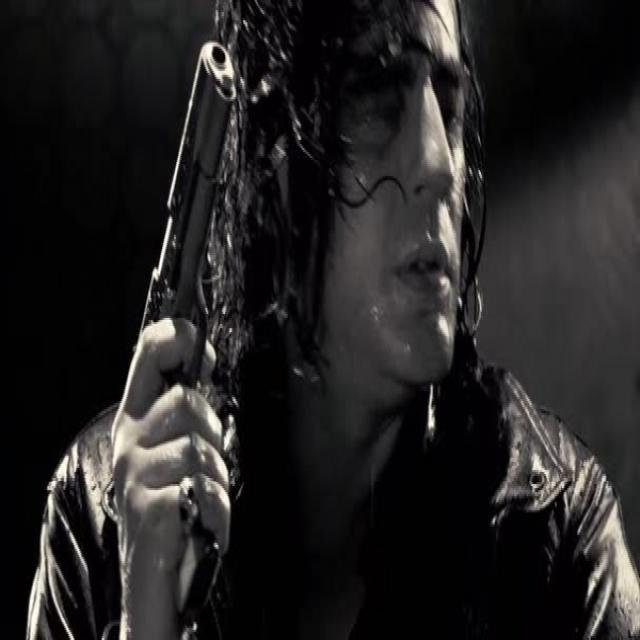weapons: (122, 20, 262, 612)
